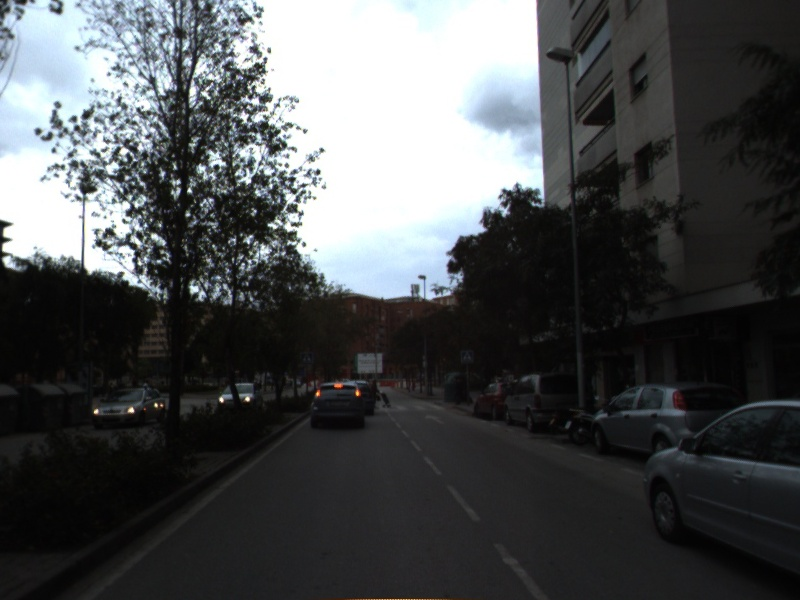STRAIGHT: (422, 412, 447, 426)
